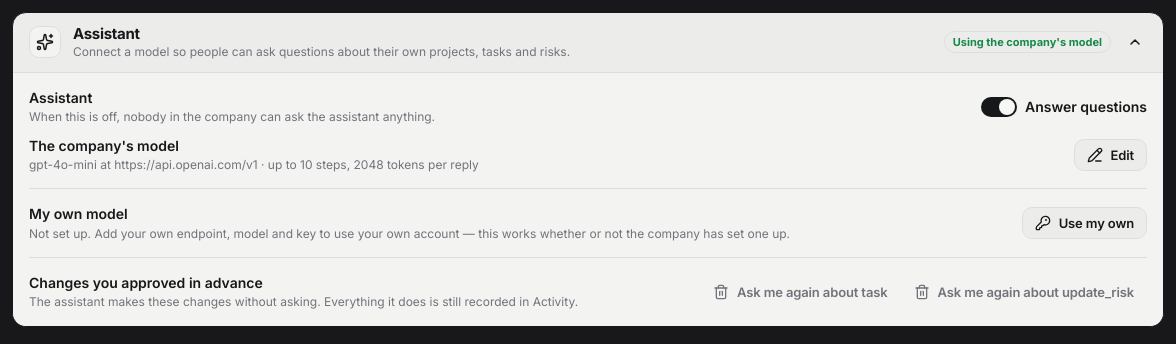
it: AiAssistant settings › lists the changes approved in advance and takes one back
Click the button "Ask me again about task" at (800, 292), box [700, 276, 900, 308]
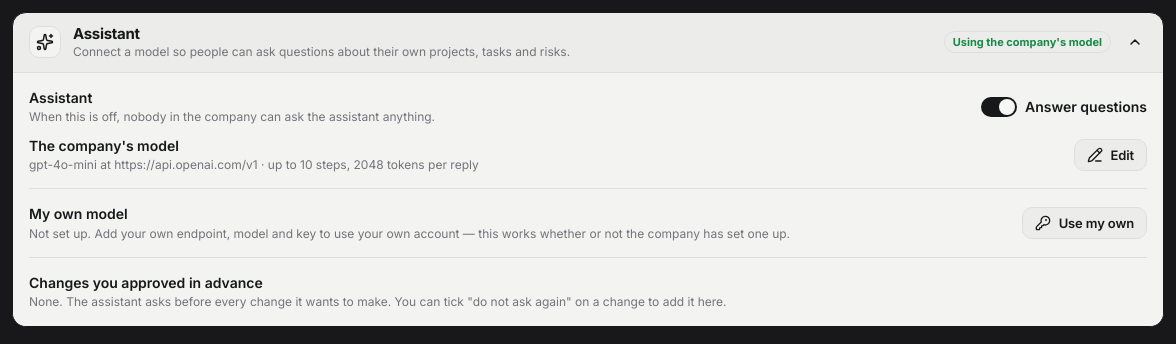
Result: the button "Ask me again about" is gone
